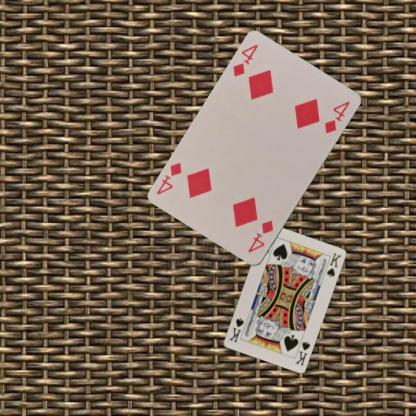4d: (230, 42, 259, 79), (246, 218, 275, 254)
Ks: (293, 338, 311, 366)
